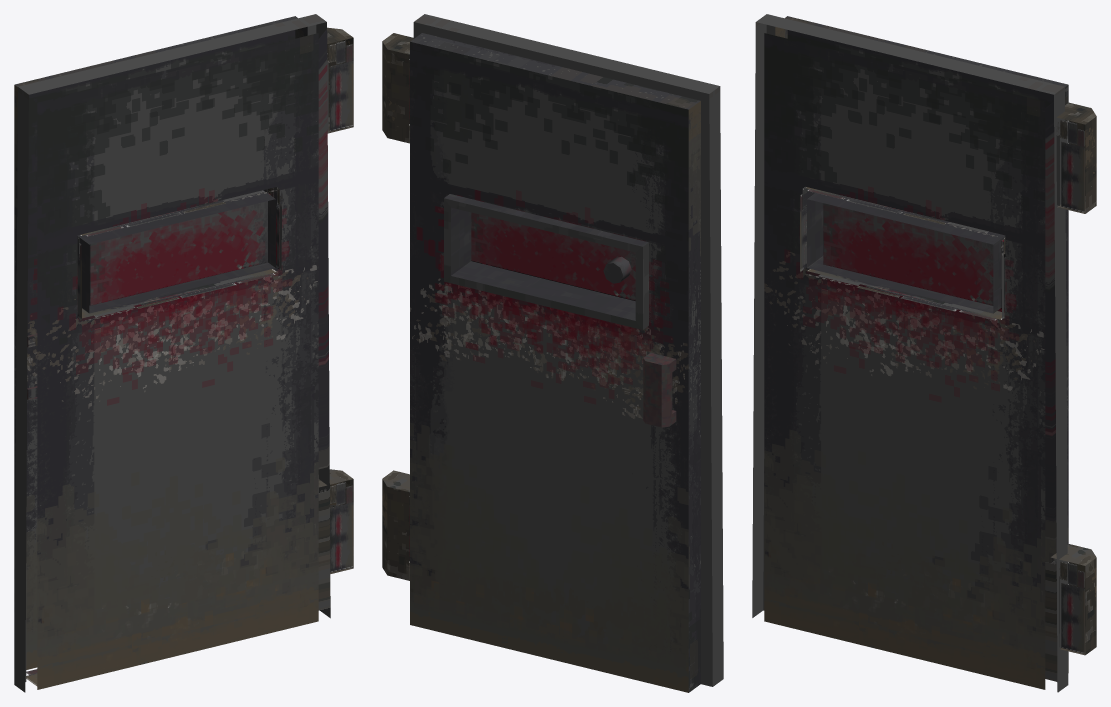
Rendered from DoorPeek.FBX.
The picture shows the model from 3 angles, left to right: view 1: azimuth 30°, elevation 25°; view 2: azimuth 150°, elevation 25°; view 3: azimuth 330°, elevation 25°; orthographic projection.
Visible parts, largest first — view 1: Door, PeekHole; view 2: Door, PeekHole; view 3: Door, PeekHole.
Part boxes in pixels (bbox=[...]): Door: bbox=[14, 14, 353, 692]; PeekHole: bbox=[89, 191, 270, 305]; Door: bbox=[382, 14, 723, 692]; PeekHole: bbox=[471, 212, 635, 300]; Door: bbox=[752, 14, 1096, 692]; PeekHole: bbox=[823, 203, 1005, 308].
Size of the model in its own units: 16.47 by 28.42 by 3.26.
2 materials, 2 textured.
